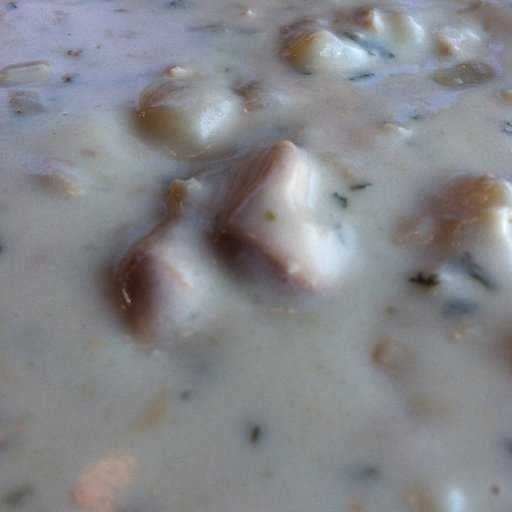soup: (9, 3, 507, 502)
